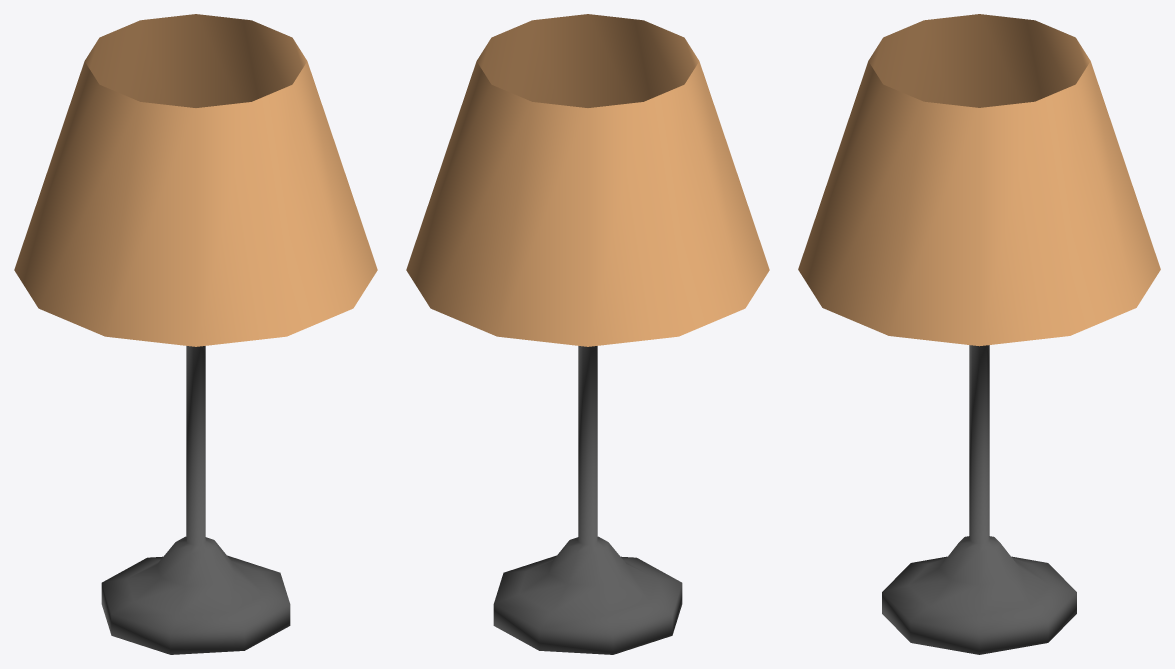
The model's file is lamp.glb.
3 views of the same model, side by side, from view 1: azimuth 30°, elevation 25°; view 2: azimuth 150°, elevation 25°; view 3: azimuth 270°, elevation 25° (orthographic).
Visible parts, largest first — view 1: Circle; view 2: Circle; view 3: Circle.
Boxes of the visible parts, bbox=[...] form: Circle: bbox=[14, 14, 377, 654]; Circle: bbox=[406, 14, 769, 654]; Circle: bbox=[798, 14, 1160, 654].
Bounding box in the file's own units: 0.3015 × 0.5069 × 0.3015.
